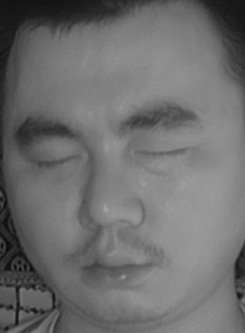blink: (132, 133, 191, 172), (26, 142, 83, 176)
mouth: (73, 238, 159, 294)
